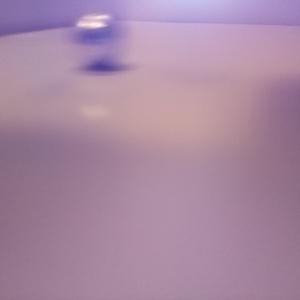alive_ball: (68, 14, 125, 66)
